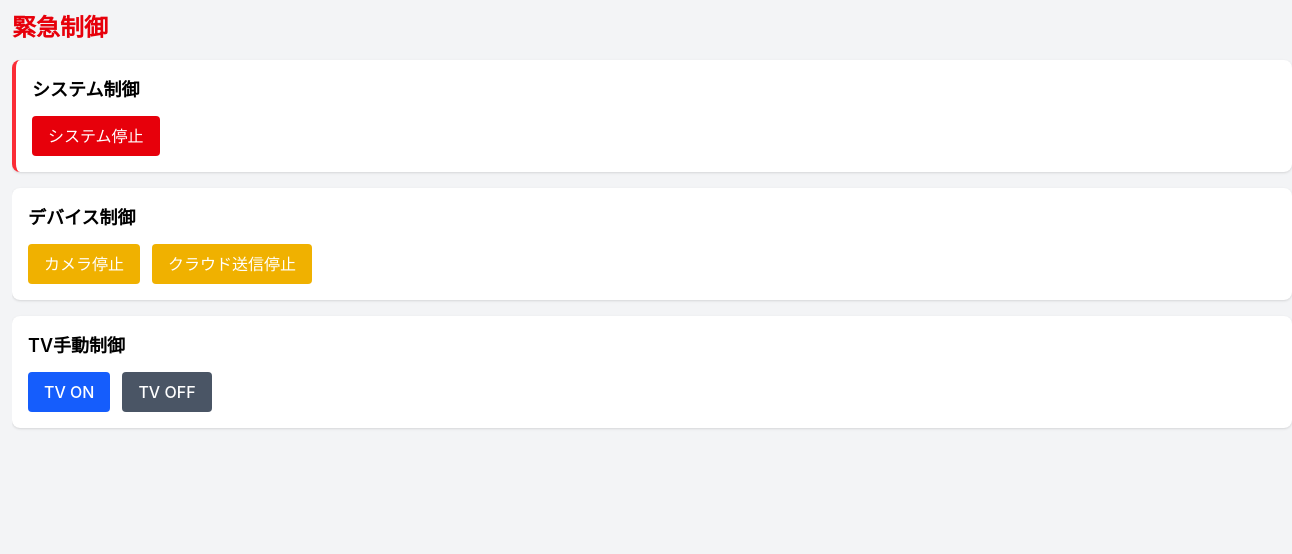
Test: EmergencyControl › should toggle system pause
Click the button with test id "system-toggle". click: click(96, 136)
box: [32, 116, 160, 156]
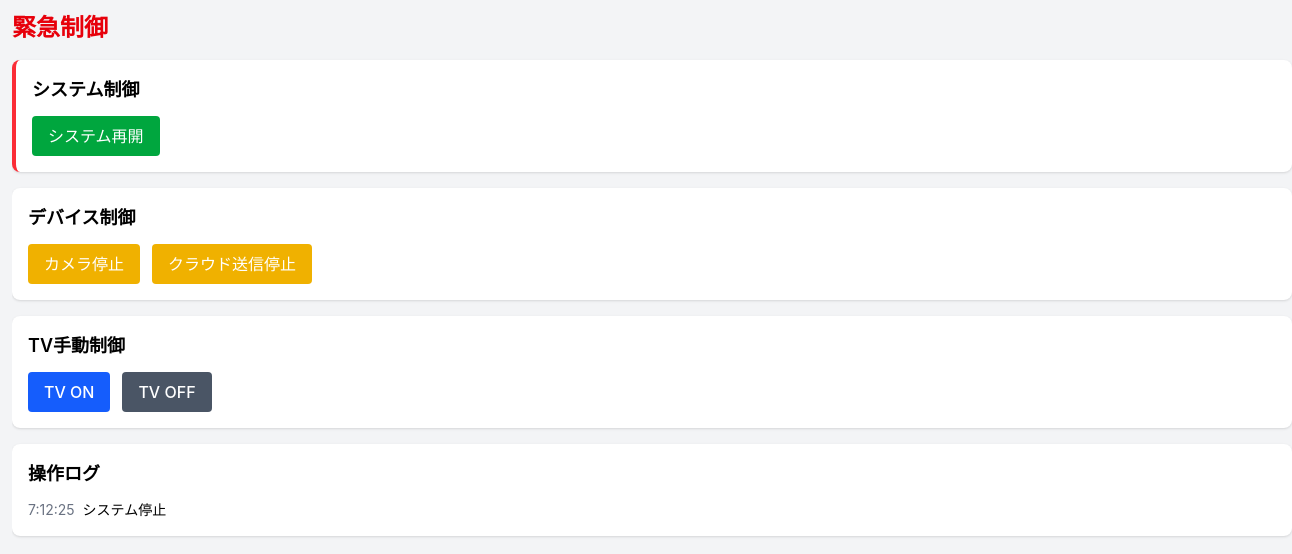
Expected: the button with test id "system-toggle" reads "システム再開", [32, 116, 160, 156]
